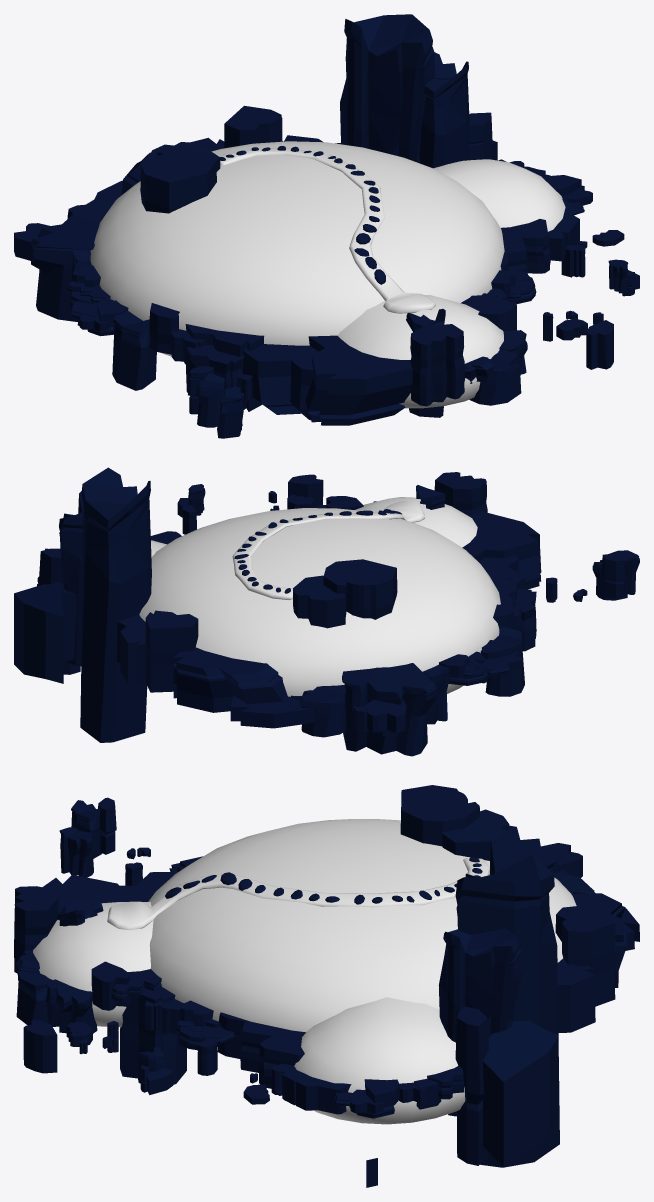
File: HojungGround.fbx
3 views of the same model, one above another, from view 1: azimuth 30°, elevation 25°; view 2: azimuth 150°, elevation 25°; view 3: azimuth 270°, elevation 25° (orthographic). The views are drawn at different scales.
Parts seen in each view (by area): view 1: RockModule5, Hojong Ground; view 2: RockModule5, Hojong Ground; view 3: RockModule5, Hojong Ground.
Boxes of the visible parts, x1,y1,x2,y2 form: RockModule5: [14, 14, 639, 438]; Hojong Ground: [90, 141, 565, 408]; RockModule5: [14, 467, 639, 756]; Hojong Ground: [139, 497, 500, 696]; RockModule5: [14, 785, 639, 1187]; Hojong Ground: [33, 819, 576, 1124].
Bounding box in the file's own units: 53.45 × 26.91 × 51.04.
